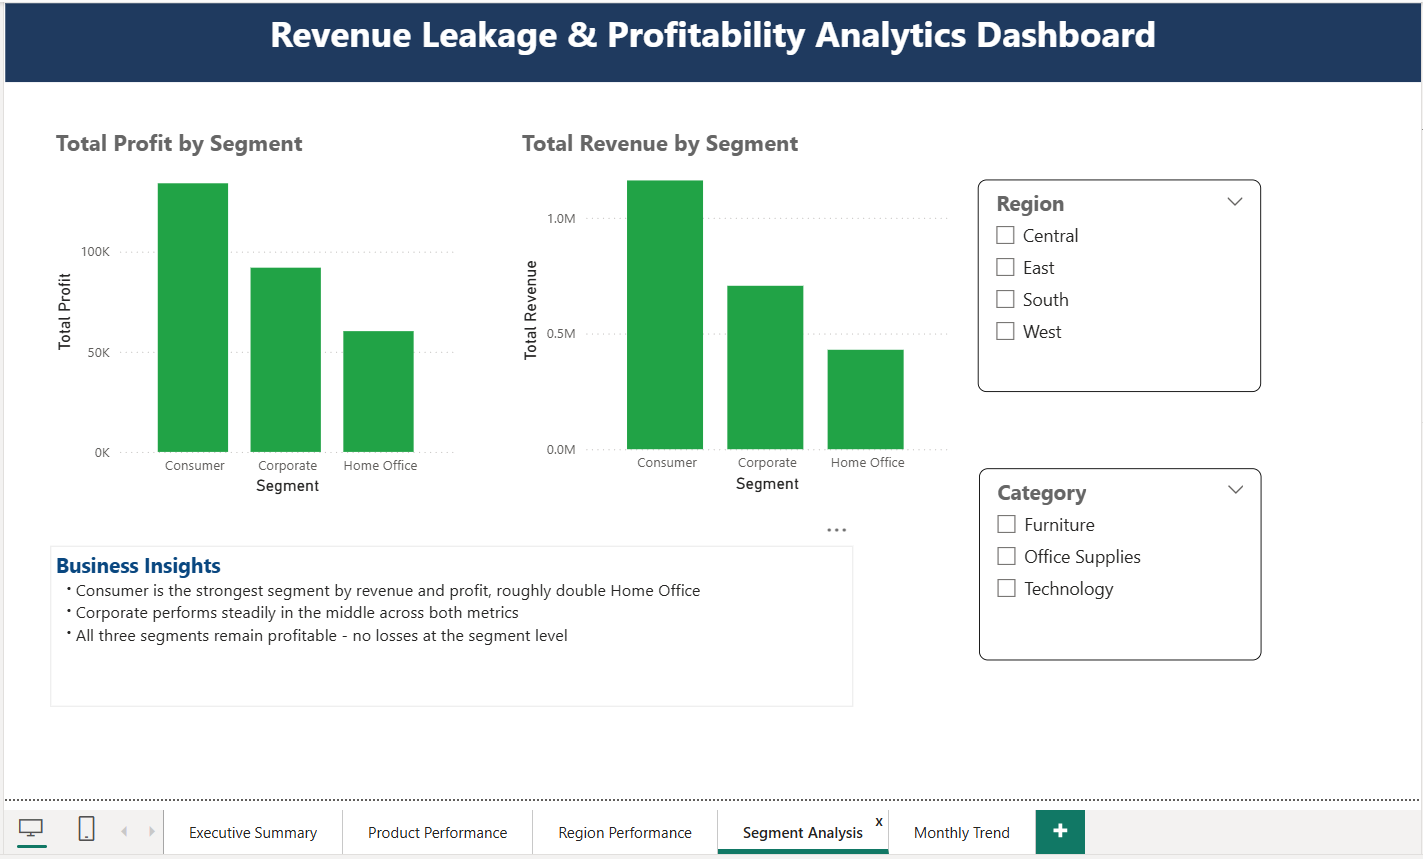

Layout of this report page (visuals, bound fields, positions):
{"tool":"powerbi","page":{"name":"Segment Analysis","canvas":[1280,720],"ordinal":3},"visuals":[{"type":"clusteredColumnChart","fields":{"Category":["Sheet1.Segment"],"Y":["Sheet1.Total Revenue"]},"box":[463.5,112.5,395,335.1],"z":0},{"type":"clusteredColumnChart","fields":{"Category":["Sheet1.Segment"],"Y":["Sheet1.Total Profit"]},"box":[41.6,112.5,370.5,337.5],"z":1000},{"type":"slicer","fields":{"Values":["Sheet1.Region"]},"box":[880,160,256,192],"z":2000},{"type":"textbox","box":[1.1,1,1278.9,71.4],"z":3000},{"type":"textbox","box":[41.6,491.6,725.1,145.5],"z":4000},{"type":"slicer","fields":{"Values":["Sheet1.Category"]},"box":[880.4,420.7,255.6,173.6],"z":5000}]}

Visuals, with their boxes on the page's 1280x720 design canvas (x1, y1, x2, y2). These are canvas units, not pixel positions in the 1423x859 screenshot, which may show the page scaled, cropped or inside an application window:
clusteredColumnChart - Sheet1.Segment x Sheet1.Total Revenue: box=[464, 112, 858, 448]
clusteredColumnChart - Sheet1.Segment x Sheet1.Total Profit: box=[42, 112, 412, 450]
slicer - Sheet1.Region: box=[880, 160, 1136, 352]
textbox: box=[1, 1, 1280, 72]
textbox: box=[42, 492, 767, 637]
slicer - Sheet1.Category: box=[880, 421, 1136, 594]
